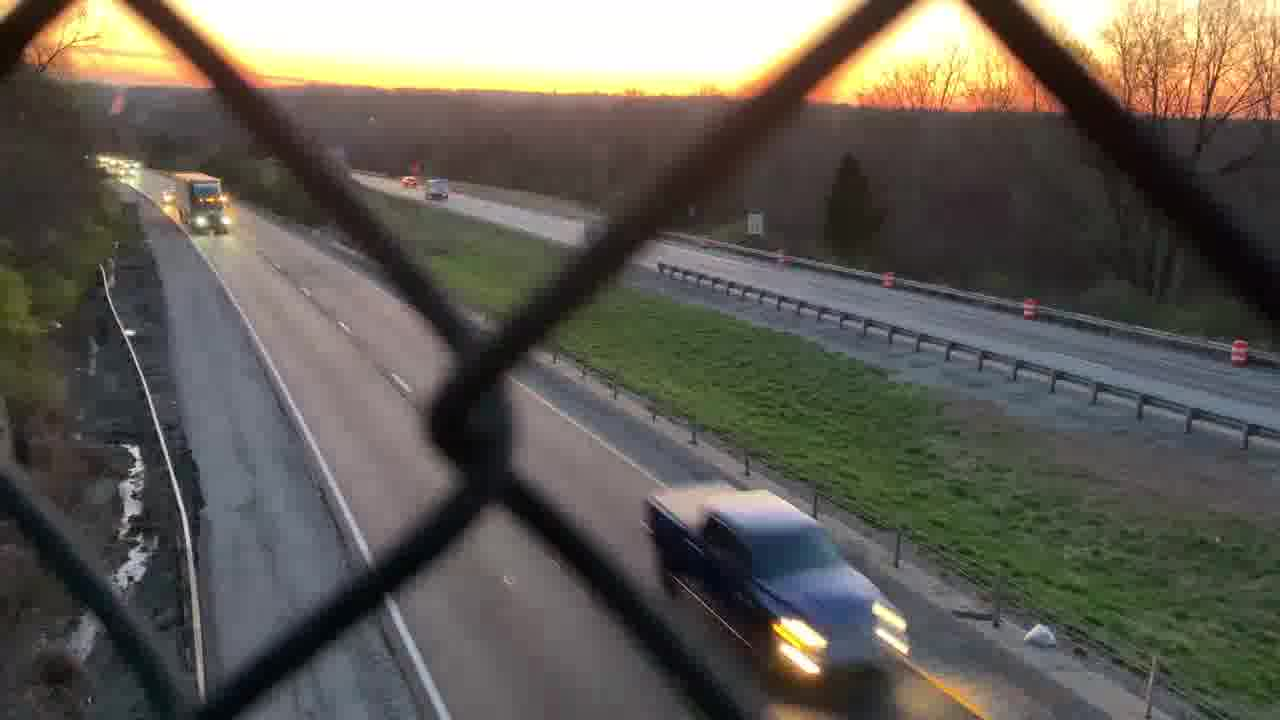heavyTruck: (164, 170, 232, 242)
lightTruck: (642, 478, 919, 702)
